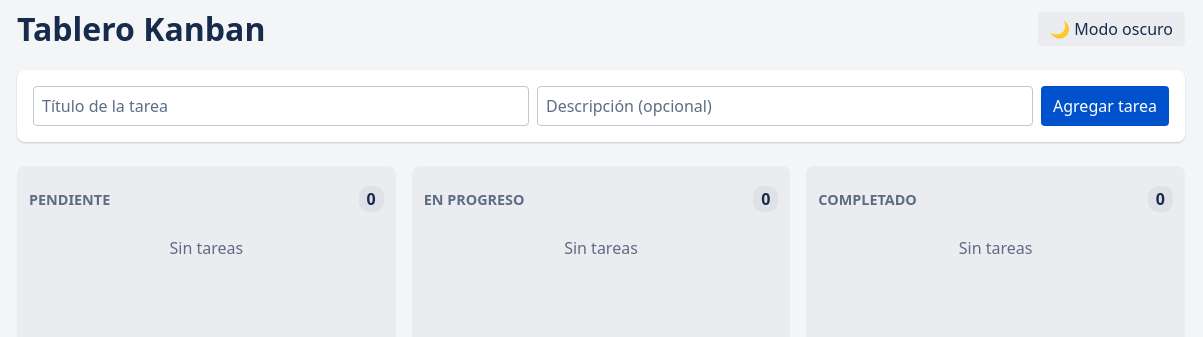
App Kanban (interfaz) › crea una tarea y aparece en Pendiente
Type "Configurar CI" into the field labelled "Título". click: coordinates (281, 106)
box: left=33, top=86, right=529, bottom=126
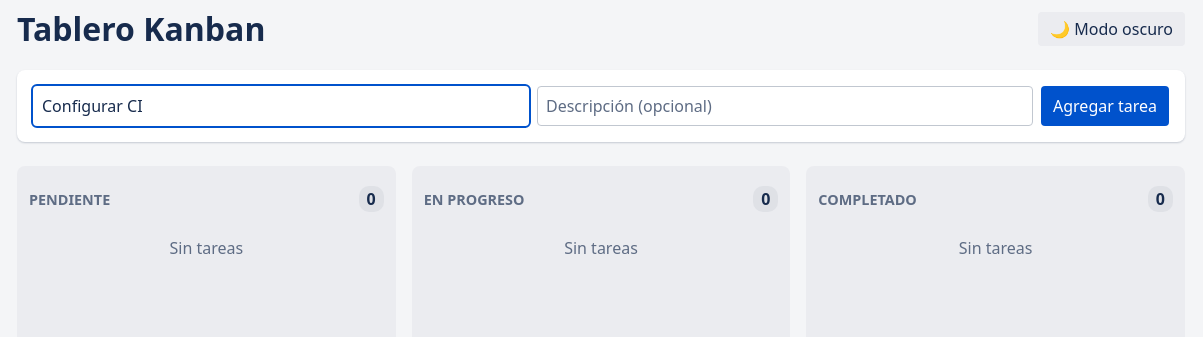
Click the button "Agregar tarea". click: coordinates (1105, 106)
box: left=1041, top=86, right=1169, bottom=126
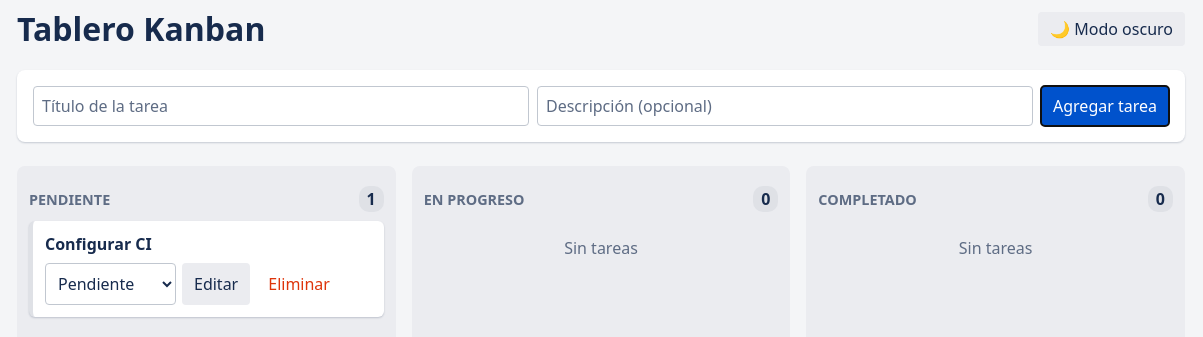
Check: the heading "Configurar CI" is shown, box left=45, top=233, right=152, bottom=255
